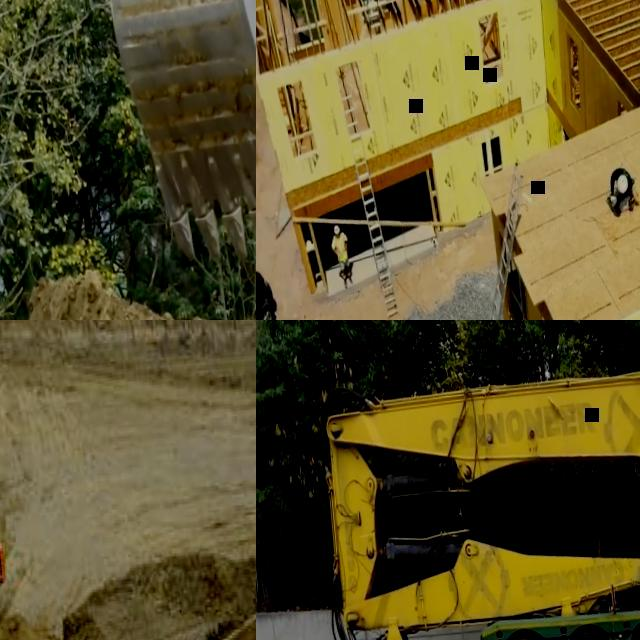helmet: (617, 174, 630, 195), (334, 226, 341, 234)
machinery: (310, 325, 640, 640), (110, 0, 256, 271), (0, 209, 256, 320)
no_mask: (337, 235, 341, 239)
no_vest: (619, 167, 634, 192)
person: (330, 224, 354, 292), (610, 167, 638, 215)
vehicle: (256, 264, 288, 320)
vest: (334, 235, 348, 259)
